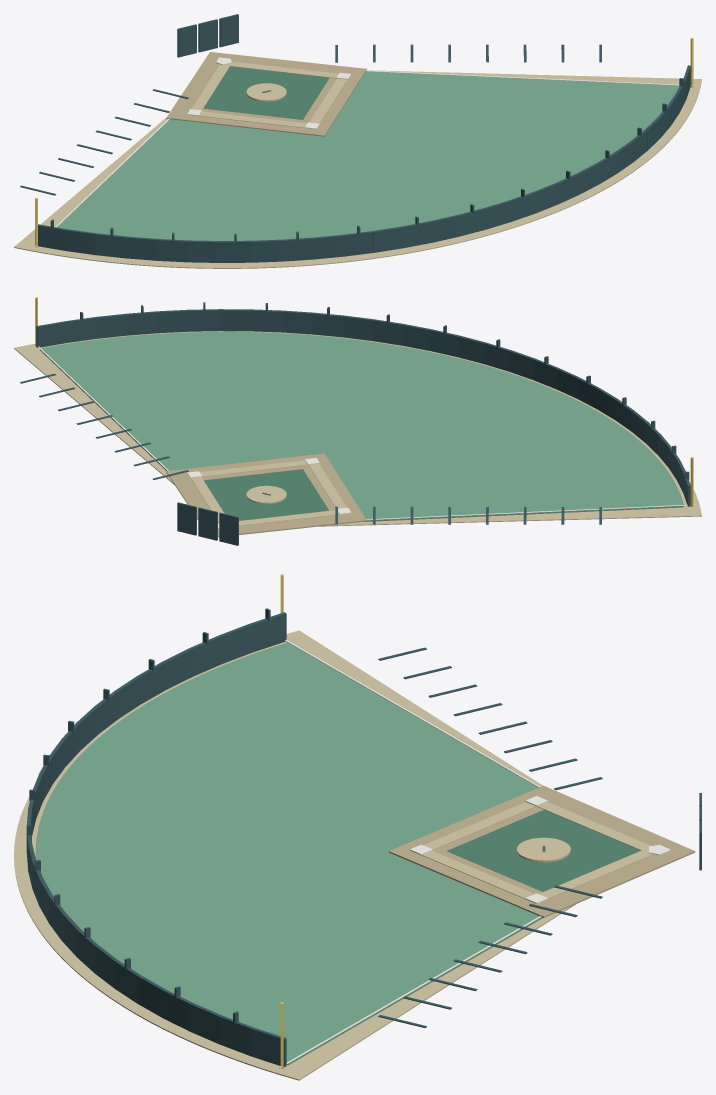
Rendered from baseball_stadium.bak_prebake.glb.
3 views of the same model, one above another, from view 1: azimuth 30°, elevation 25°; view 2: azimuth 150°, elevation 25°; view 3: azimuth 270°, elevation 25° (orthographic). The views are drawn at different scales.
Visible parts, largest first — view 1: Baseball stadium; view 2: Baseball stadium; view 3: Baseball stadium.
Boxes of the visible parts, x1=… form: Baseball stadium: x1=14, y1=14, x2=701, y2=268; Baseball stadium: x1=14, y1=297, x2=701, y2=545; Baseball stadium: x1=14, y1=574, x2=701, y2=1080.
Size of the model in its own units: 295 by 20.6 by 191.
